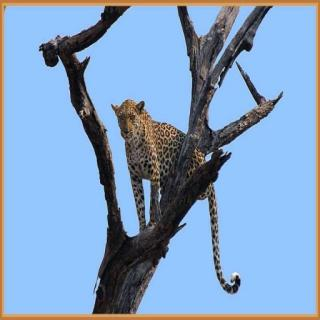-: (92, 93, 294, 248)
